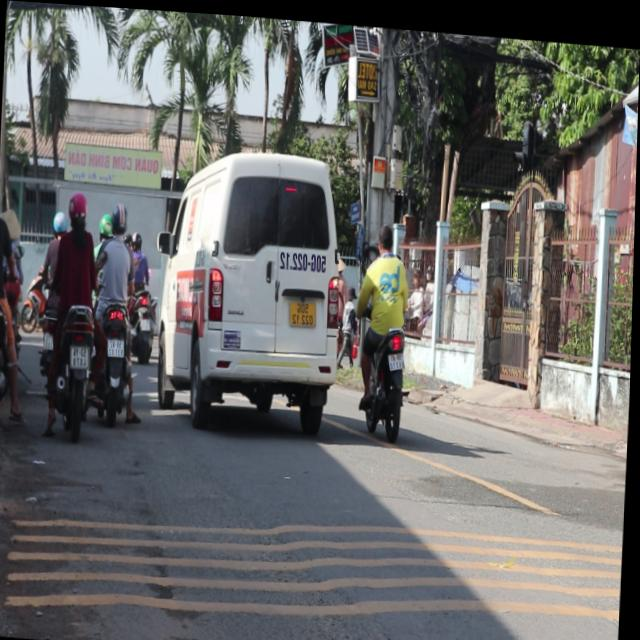helmet: (68, 186, 91, 225), (111, 198, 131, 233)
licenseplate: (38, 185, 104, 437), (354, 211, 417, 435), (88, 194, 146, 423)
motorcyclist: (378, 216, 397, 248)
nohelmet: (72, 343, 90, 366), (109, 334, 125, 353), (390, 345, 406, 364)
